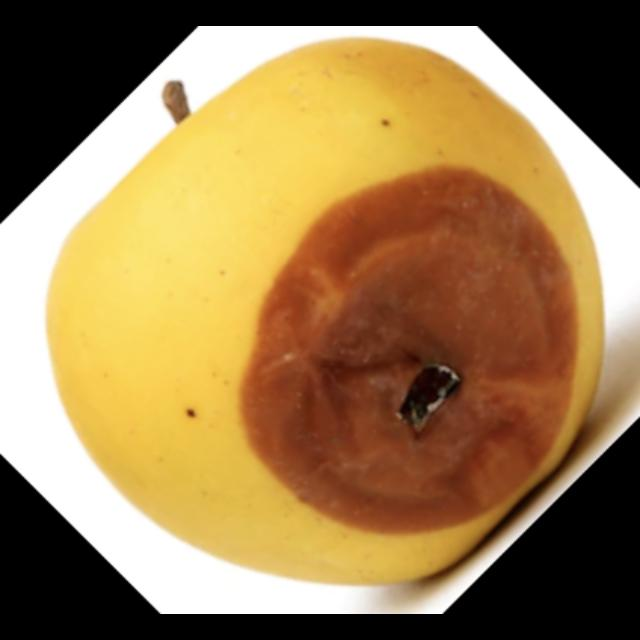Apel Tidak Segar: (39, 28, 615, 596)
